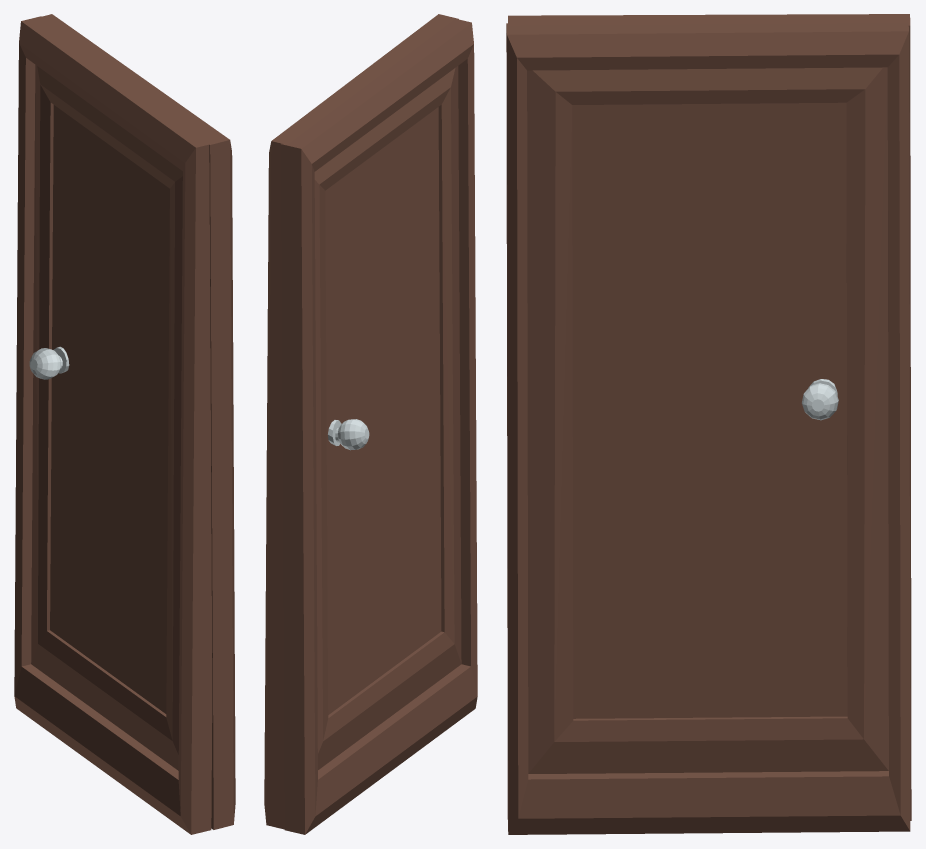
File: door 3.glb
The picture shows the model from 3 angles, left to right: view 1: azimuth 30°, elevation 25°; view 2: azimuth 150°, elevation 25°; view 3: azimuth 270°, elevation 25°; orthographic projection. The views are drawn at different scales.
Visible parts, largest first — view 1: group729752686.001, door 3; view 2: group729752686.001, door 3; view 3: door 3, group729752686.001.
Part boxes in pixels (left/top/right/bottom): group729752686.001: left=14, top=16, right=212, bottom=834; door 3: left=37, top=14, right=235, bottom=829; group729752686.001: left=281, top=18, right=477, bottom=834; door 3: left=264, top=14, right=458, bottom=829; door 3: left=506, top=22, right=910, bottom=834; group729752686.001: left=508, top=14, right=911, bottom=820.
Bounding box in the file's own units: 0.1024 × 0.7674 × 0.3528.
